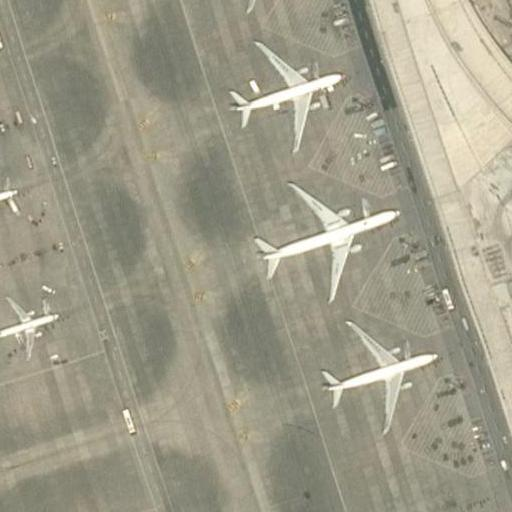Aircraft: (251, 179, 402, 303), (218, 36, 344, 154), (311, 319, 435, 434), (0, 297, 61, 361), (179, 0, 302, 16), (0, 169, 16, 242)
